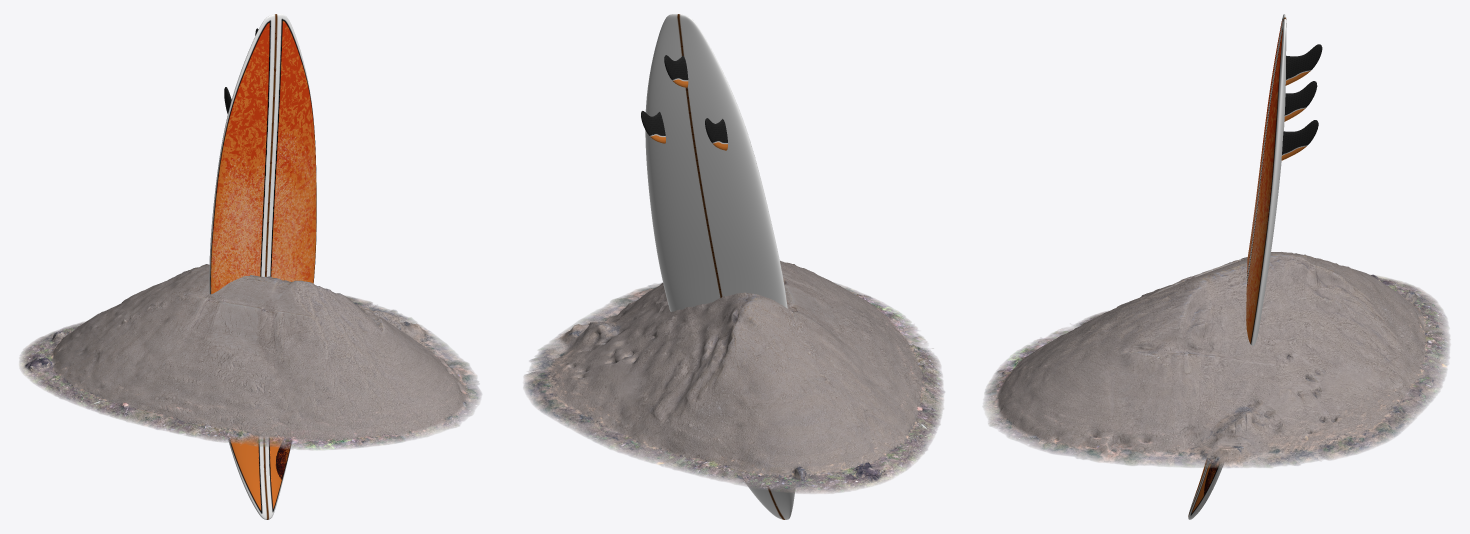
Rendered from surf.glb.
3 renders of one model, left to right at view 1: azimuth 30°, elevation 25°; view 2: azimuth 150°, elevation 25°; view 3: azimuth 270°, elevation 25°, orthographic. The views are drawn at different scales.
Parts seen in each view (by area): view 1: hromada_pisek_01_30k, Prancha.001; view 2: hromada_pisek_01_30k, Prancha.001, Cube.005, Cube.001, Cube.004; view 3: hromada_pisek_01_30k, Prancha.001, Cube.005, Cube.001, Cube.004.
Part boxes in pixels (left/top/right/bottom): hromada_pisek_01_30k: left=19, top=264, right=481, bottom=450; Prancha.001: left=209, top=14, right=316, bottom=519; hromada_pisek_01_30k: left=523, top=260, right=944, bottom=493; Prancha.001: left=645, top=14, right=794, bottom=519; Cube.005: left=664, top=55, right=688, bottom=87; Cube.001: left=641, top=111, right=665, bottom=143; Cube.004: left=705, top=118, right=727, bottom=150; hromada_pisek_01_30k: left=983, top=252, right=1450, bottom=467; Prancha.001: left=1188, top=14, right=1286, bottom=519; Cube.005: left=1285, top=44, right=1322, bottom=85; Cube.001: left=1281, top=120, right=1318, bottom=160; Cube.004: left=1284, top=81, right=1317, bottom=121.
Size of the model in its own units: 3.88 by 4.74 by 3.9.
3 materials, 3 textured.
